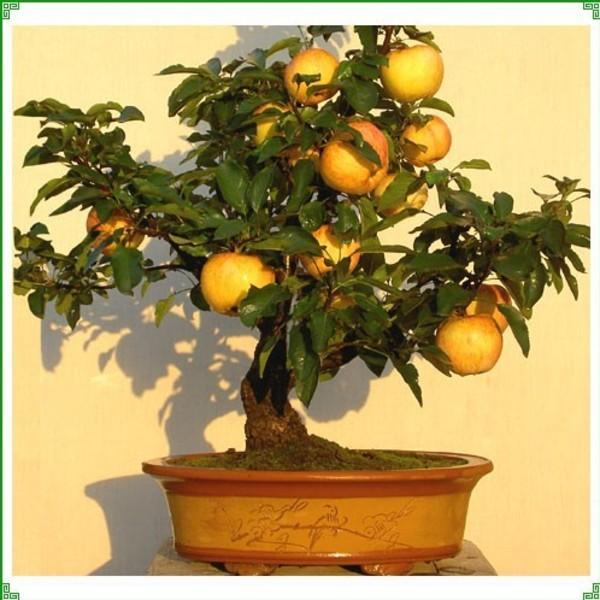apple: (321, 122, 387, 197), (199, 251, 277, 314), (434, 312, 502, 375), (380, 42, 444, 102), (285, 50, 341, 103), (298, 221, 357, 271), (402, 114, 451, 165)
